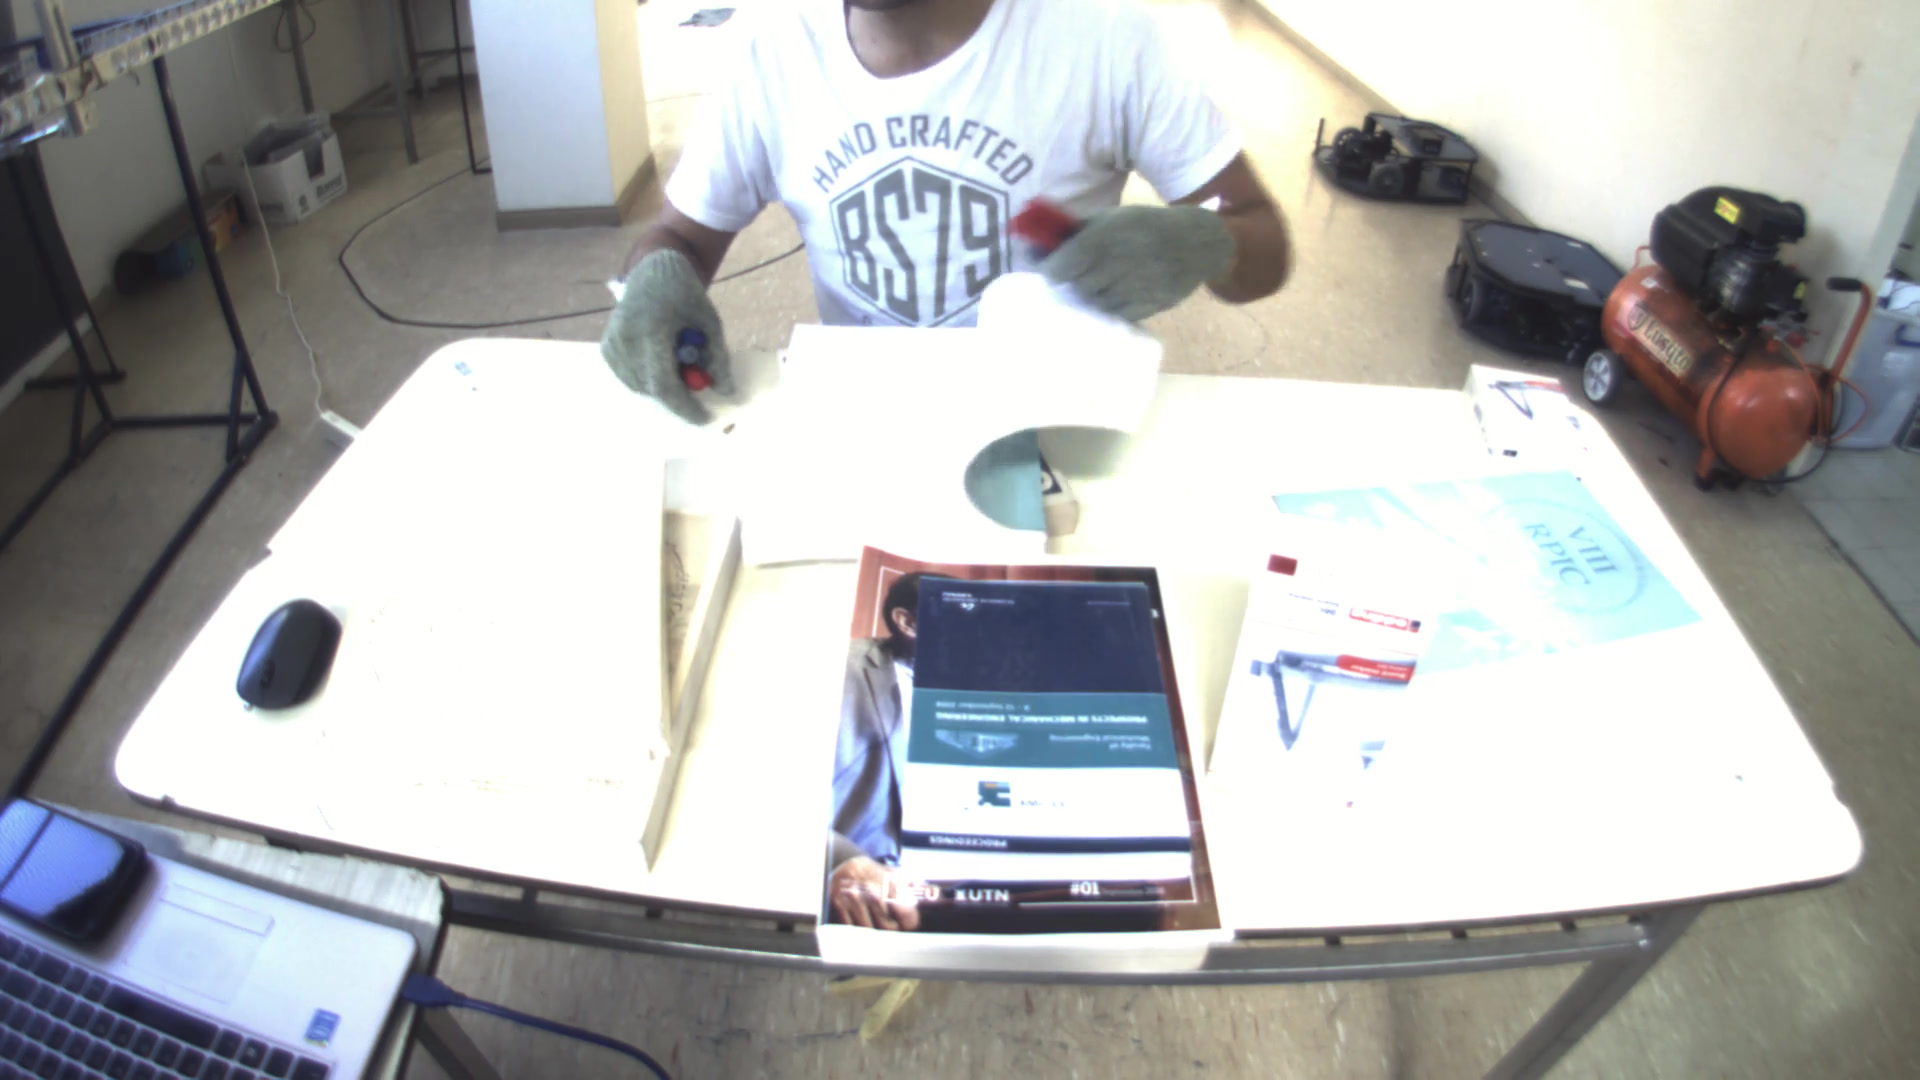hand: (1011, 187, 1246, 324), (583, 249, 733, 413)
